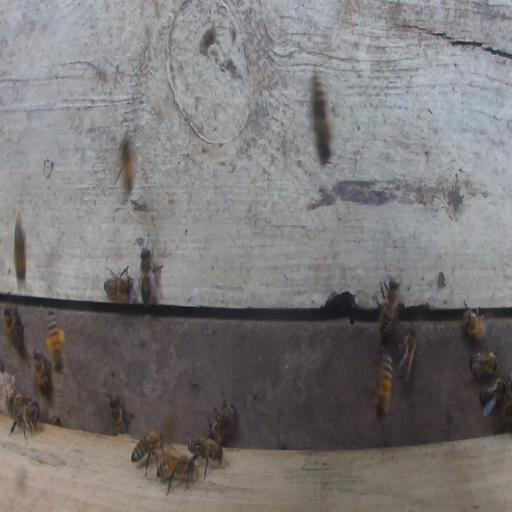nonpollenbee: (310, 70, 331, 162), (137, 242, 162, 306), (188, 436, 224, 477), (114, 131, 136, 194), (210, 397, 236, 444), (375, 351, 393, 418), (103, 264, 133, 302), (398, 327, 418, 384), (9, 402, 39, 440), (479, 377, 507, 416), (380, 278, 399, 335), (4, 304, 24, 354), (33, 349, 53, 399), (462, 302, 487, 342), (131, 432, 163, 463), (157, 453, 195, 479), (14, 214, 26, 283), (469, 352, 499, 378), (109, 399, 124, 438), (503, 397, 512, 427)
pollenbee: (45, 309, 65, 372)
